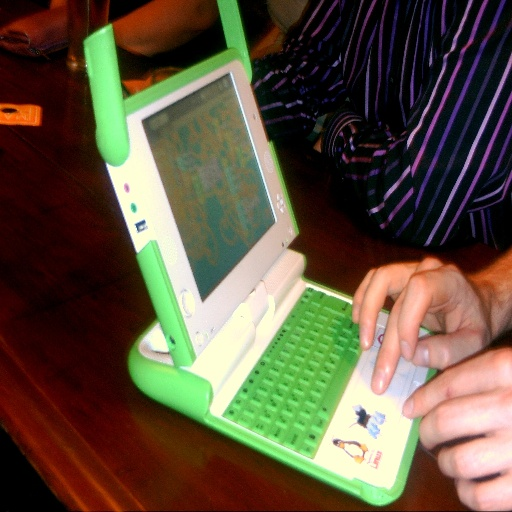hand: (352, 249, 503, 407), (400, 344, 511, 511)
